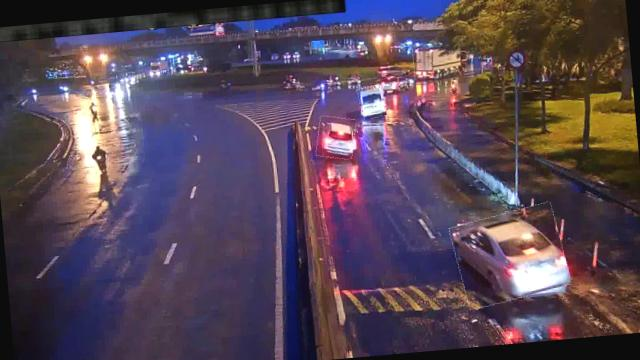Bike: (90, 144, 108, 174)
Bus: (358, 84, 386, 120)
Car: (450, 204, 570, 307), (314, 116, 358, 162)
Truck: (412, 43, 470, 81)
